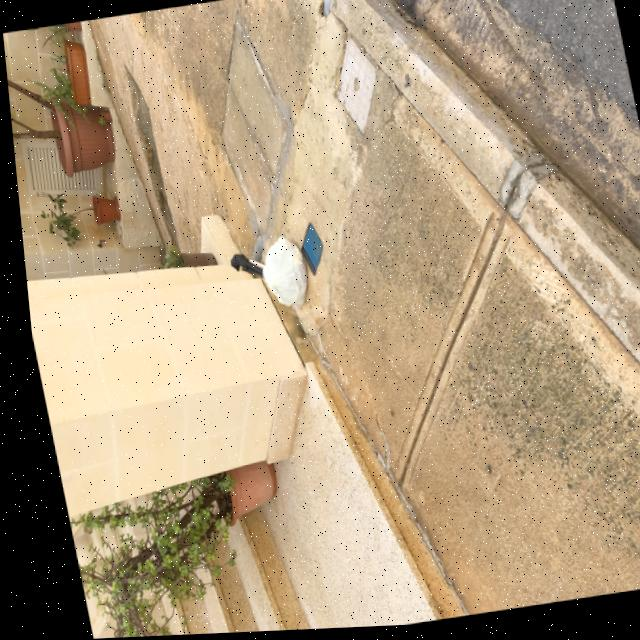Organic Waste -White Bag-: (248, 231, 312, 317)
